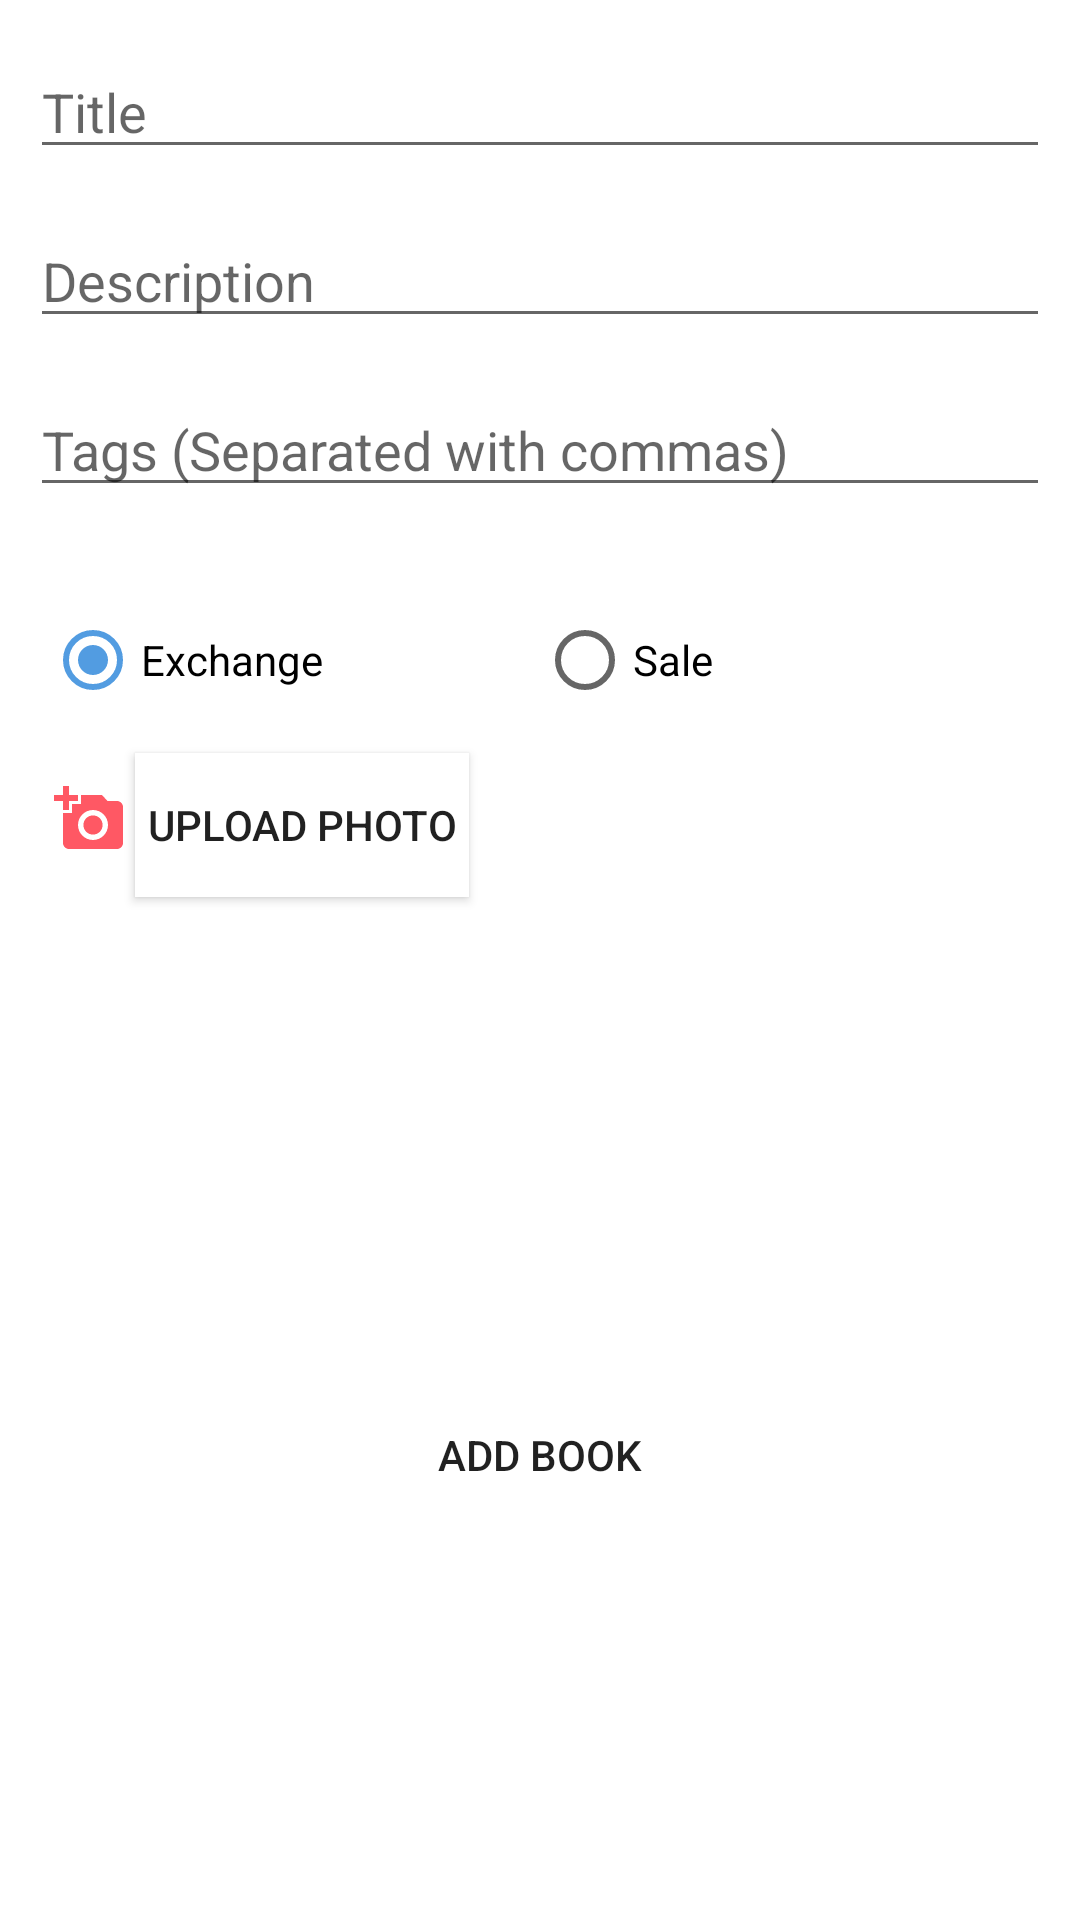

Where icons sit on this 1080 x 1920 app screen, as (x1, y1, x2, y2):
add photo: (54, 786, 123, 849)
